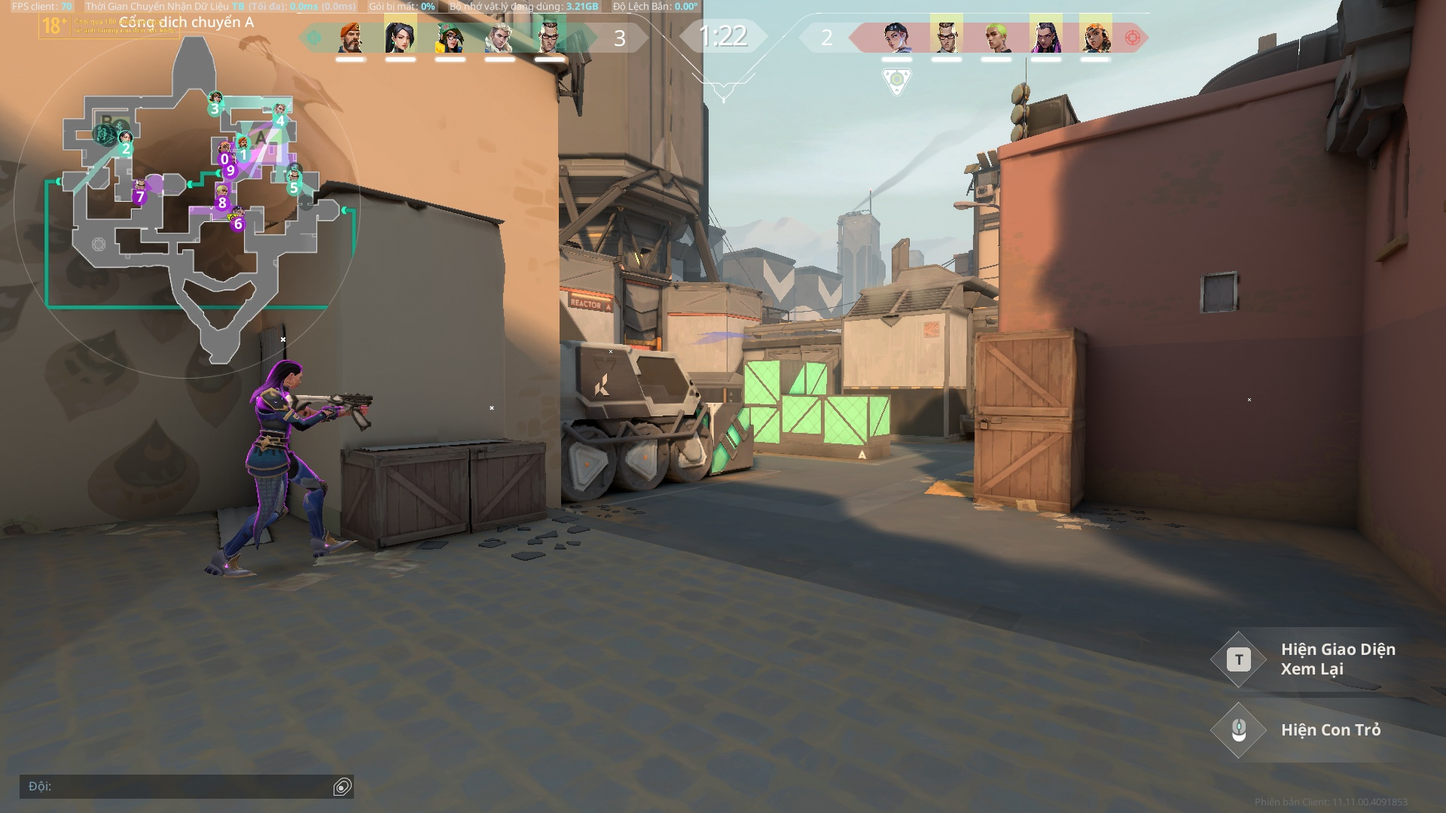body: (251, 387, 298, 442)
head: (269, 360, 304, 387)
